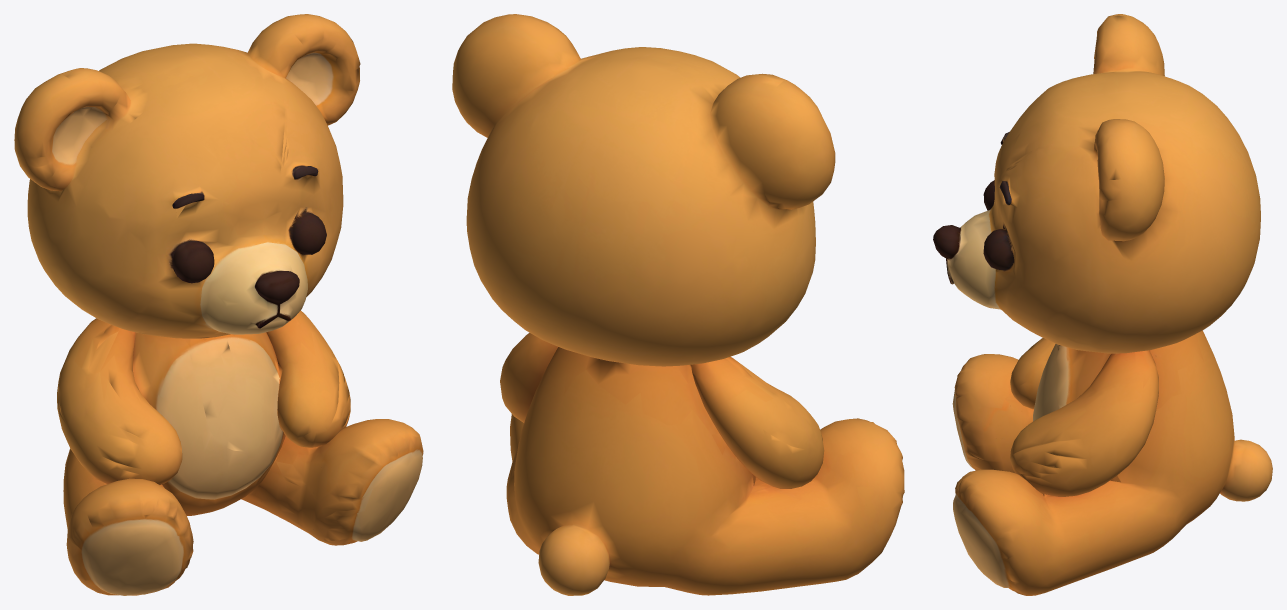
The model's file is plush.fbx.
3 views of the same model, side by side, from view 1: azimuth 30°, elevation 25°; view 2: azimuth 150°, elevation 25°; view 3: azimuth 270°, elevation 25° (orthographic). The views are drawn at different scales.
Visible parts, largest first — view 1: tripo_node_1d0b61b4; view 2: tripo_node_1d0b61b4; view 3: tripo_node_1d0b61b4.
Part boxes in pixels (x1=…): tripo_node_1d0b61b4: x1=14, y1=14, x2=423, y2=595; tripo_node_1d0b61b4: x1=452, y1=14, x2=904, y2=595; tripo_node_1d0b61b4: x1=933, y1=14, x2=1272, y2=595.
Size of the model in its own units: 0.2253 by 0.3 by 0.1993.
1 material, 1 textured.
